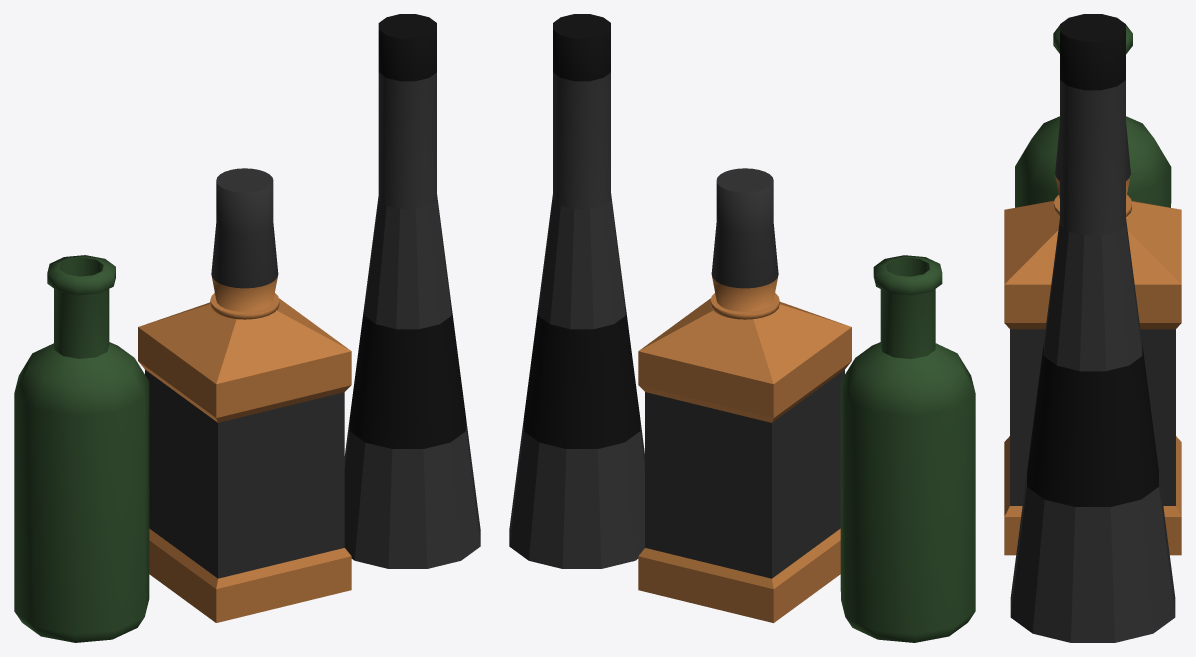
The model's file is Bottles.fbx.
3 renders of one model, left to right at view 1: azimuth 30°, elevation 25°; view 2: azimuth 150°, elevation 25°; view 3: azimuth 270°, elevation 25°, orthographic. The views are drawn at different scales.
Visible parts, largest first — view 1: Jack, Sambuca, Bottle; view 2: Jack, Sambuca, Bottle; view 3: Sambuca, Jack, Bottle.
Part boxes in pixels (box(x1,y1,x2,y2)): Jack: box(138, 168, 351, 622); Sambuca: box(344, 14, 480, 568); Bottle: box(14, 255, 149, 642); Jack: box(638, 168, 851, 623); Sambuca: box(509, 14, 644, 568); Bottle: box(840, 255, 975, 642); Sambuca: box(1010, 14, 1175, 642); Jack: box(1004, 123, 1181, 555); Bottle: box(1015, 25, 1171, 207).
Size of the model in its own units: 54.69 by 60 by 16.61.
